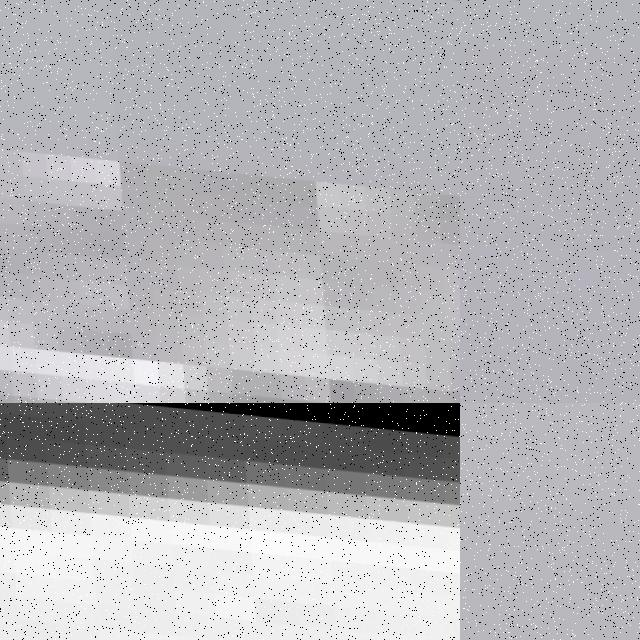drone: (0, 0, 460, 403), (0, 403, 460, 640)
